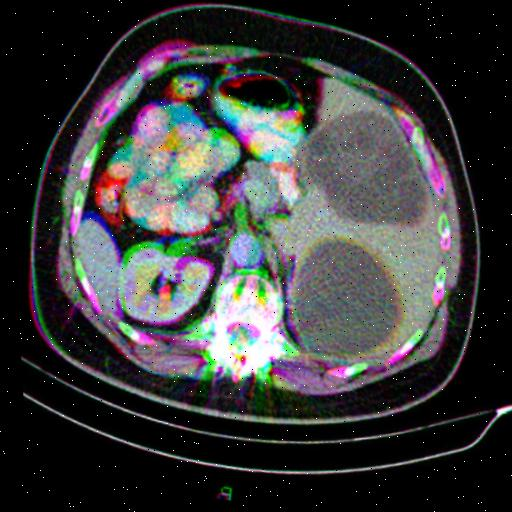Cyst: (297, 111, 419, 224), (285, 242, 395, 357)
